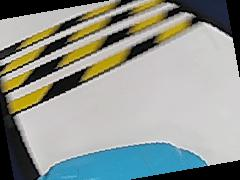bump: (0, 0, 206, 102)
